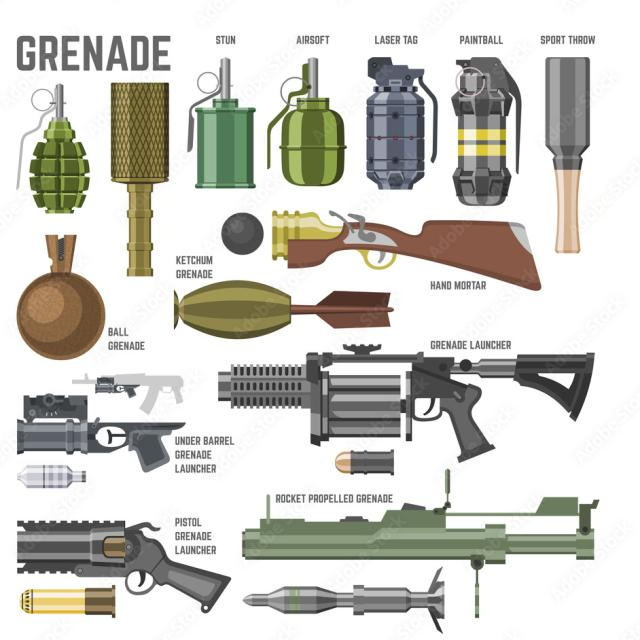Weapon: (219, 344, 594, 461), (242, 495, 597, 575), (18, 520, 230, 611)
